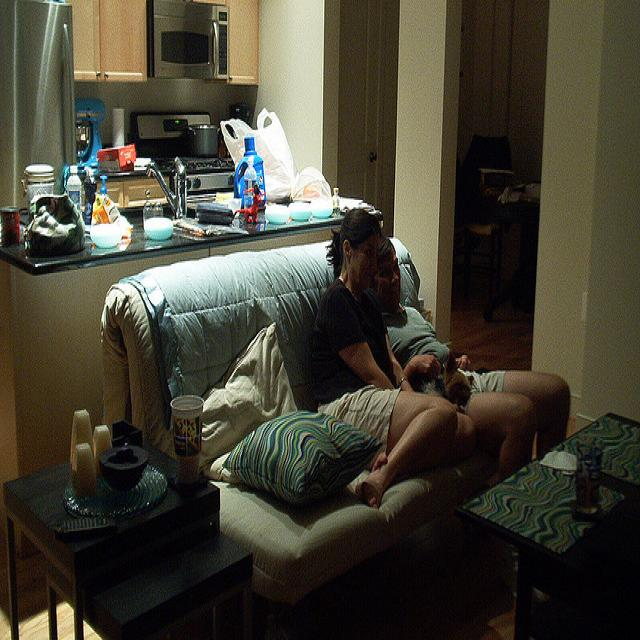chair: (454, 156, 516, 297), (475, 135, 514, 196)
dining table: (4, 103, 383, 475)
